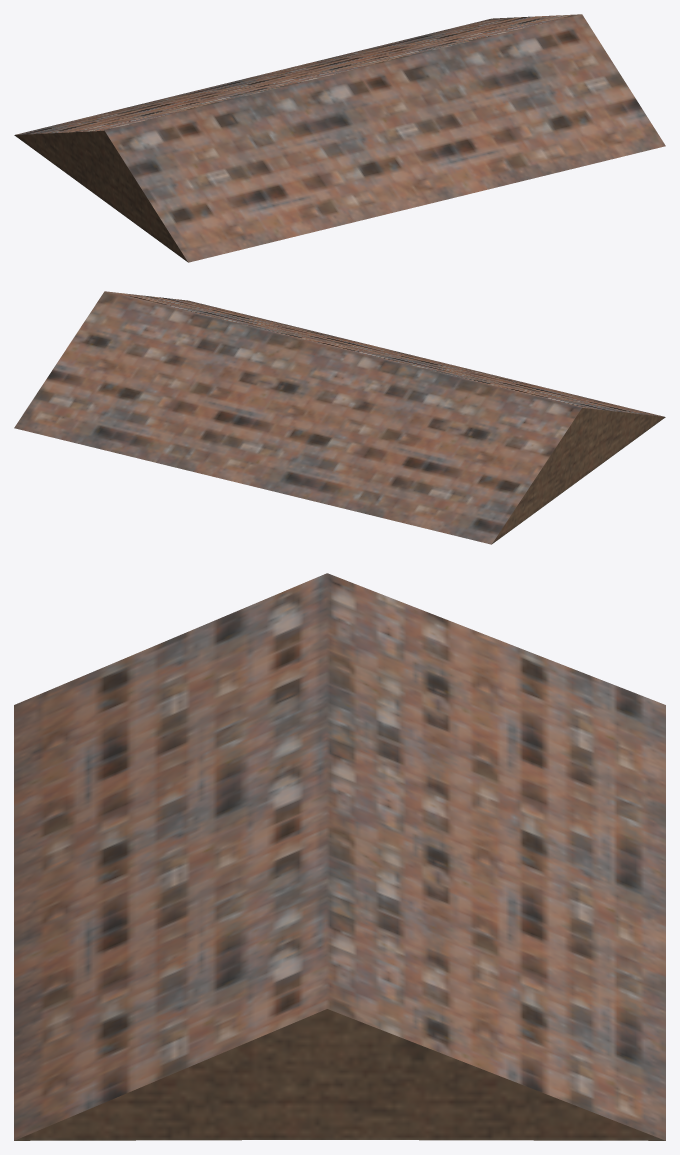
The model's file is Telhado I.fbx.
3 renders of one model, top to bottom at view 1: azimuth 30°, elevation 25°; view 2: azimuth 150°, elevation 25°; view 3: azimuth 270°, elevation 25°, orthographic. The views are drawn at different scales.
Visible parts, largest first — view 1: Telhado I; view 2: Telhado I; view 3: Telhado I.
Boxes of the visible parts, x1,y1,x2,y2 form: Telhado I: (14,14,665,262); Telhado I: (14,291,665,544); Telhado I: (14,573,665,1140).
Size of the model in its own units: 1567 by 221 by 991.
